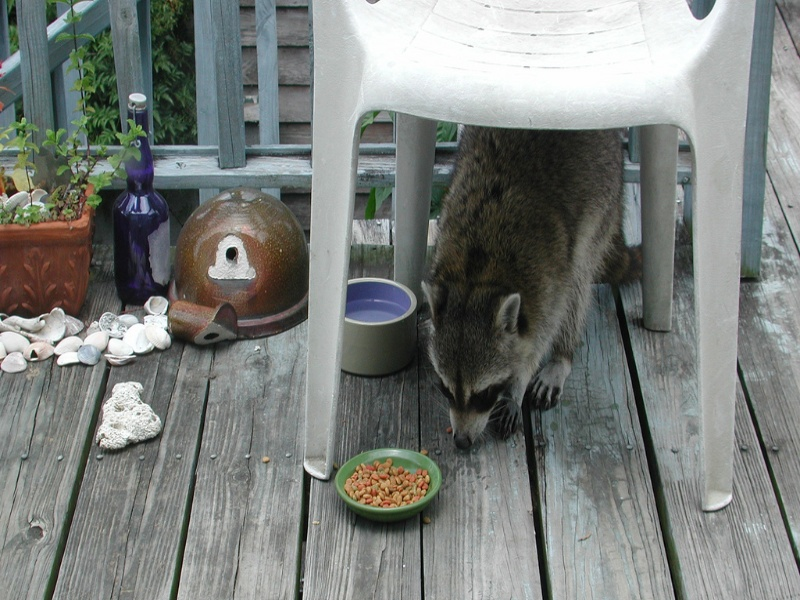raccoon: (418, 109, 638, 464)
